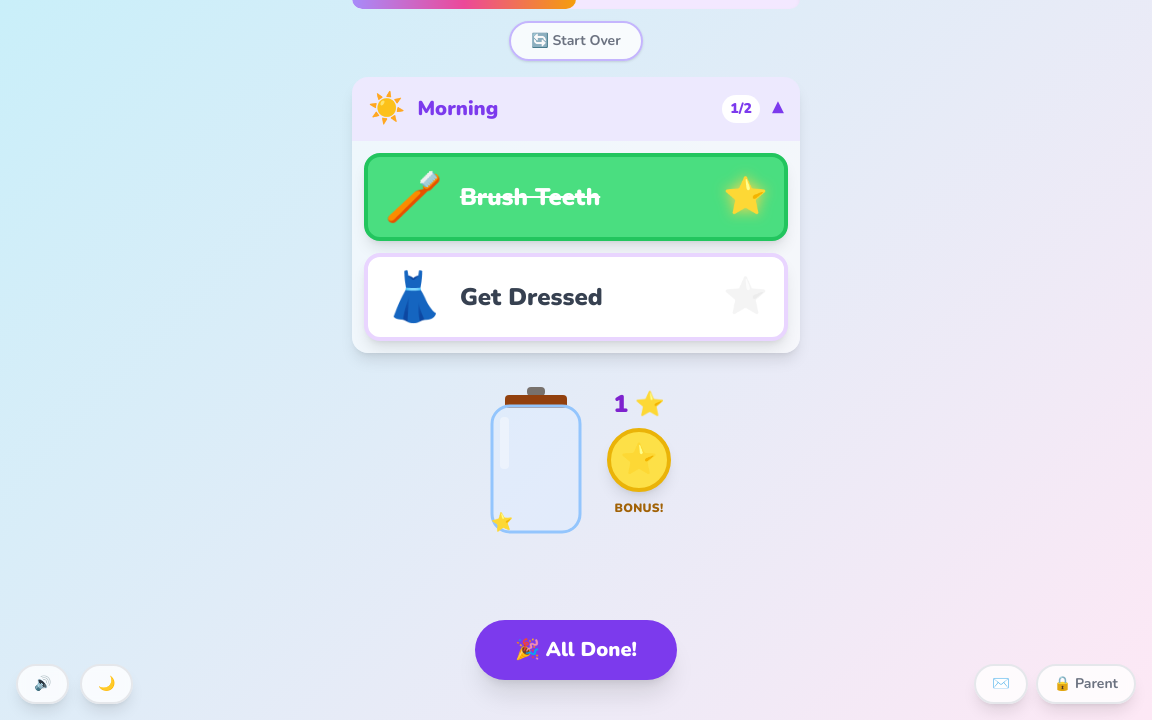
Test case: ChildView — All Done button › opens celebration screen when clicked
(page scrolled)
Click the button "🎉 All Done!" at (576, 650), box x1=475 y1=620 x2=677 y2=680
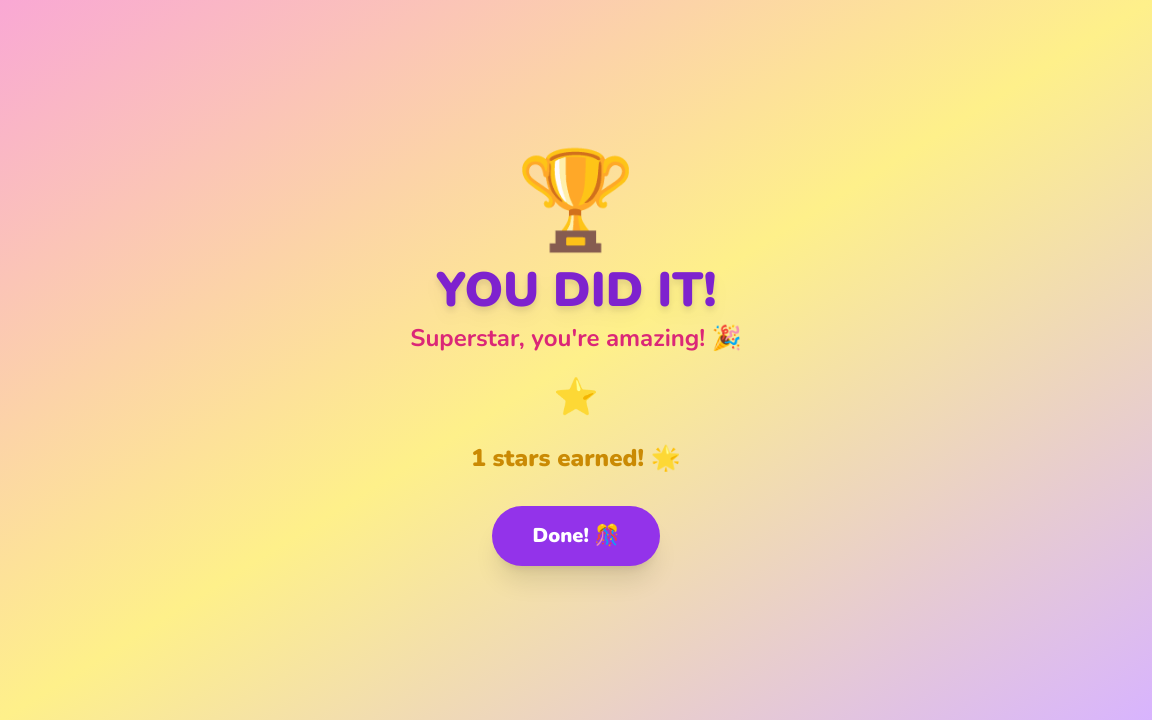
Expected: the heading "YOU DID IT!" is shown, x1=436 y1=266 x2=716 y2=314
